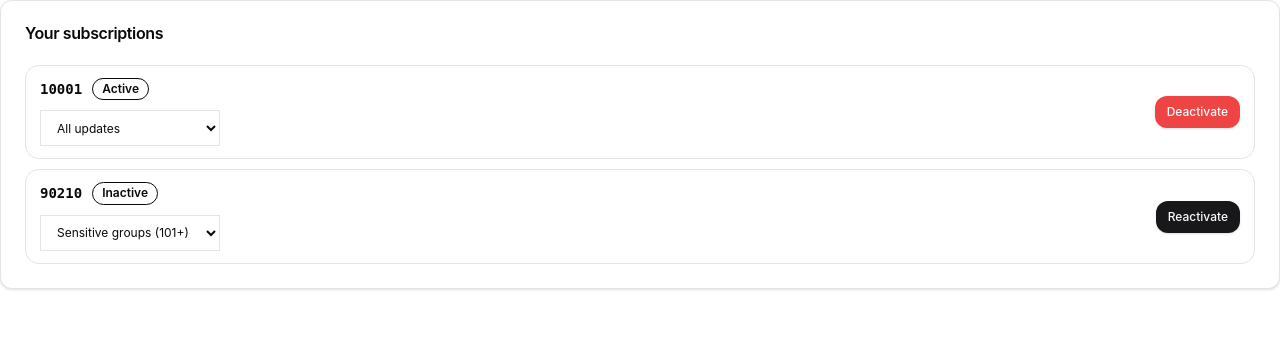
SubscriptionList › announces successful subscription updates
The image size is (1280, 339).
Check: the text "10001" is shown, box [40,79,82,100]
Select "Unhealthy (151+)" in the dropdown named "minimum aqi for 10001": (130, 128) [40,110,220,146]
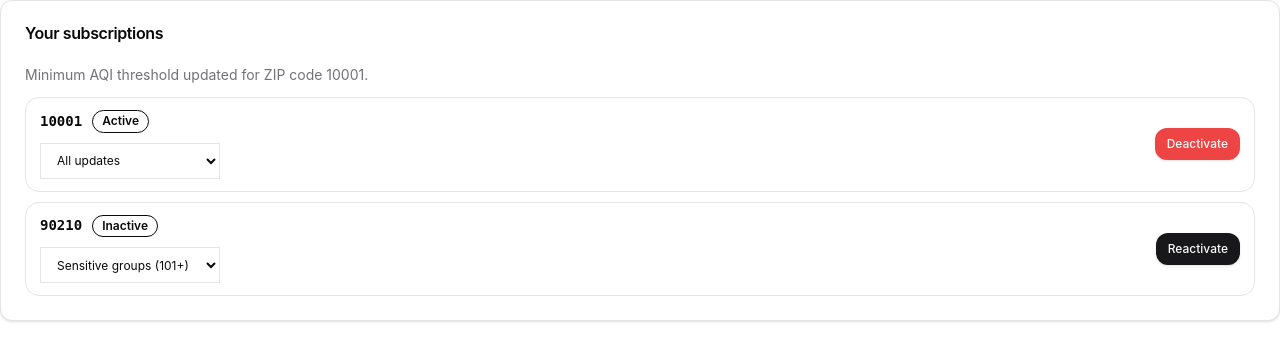
Check: the message shows "Minimum AQI threshold updated", box [25,66,368,83]
